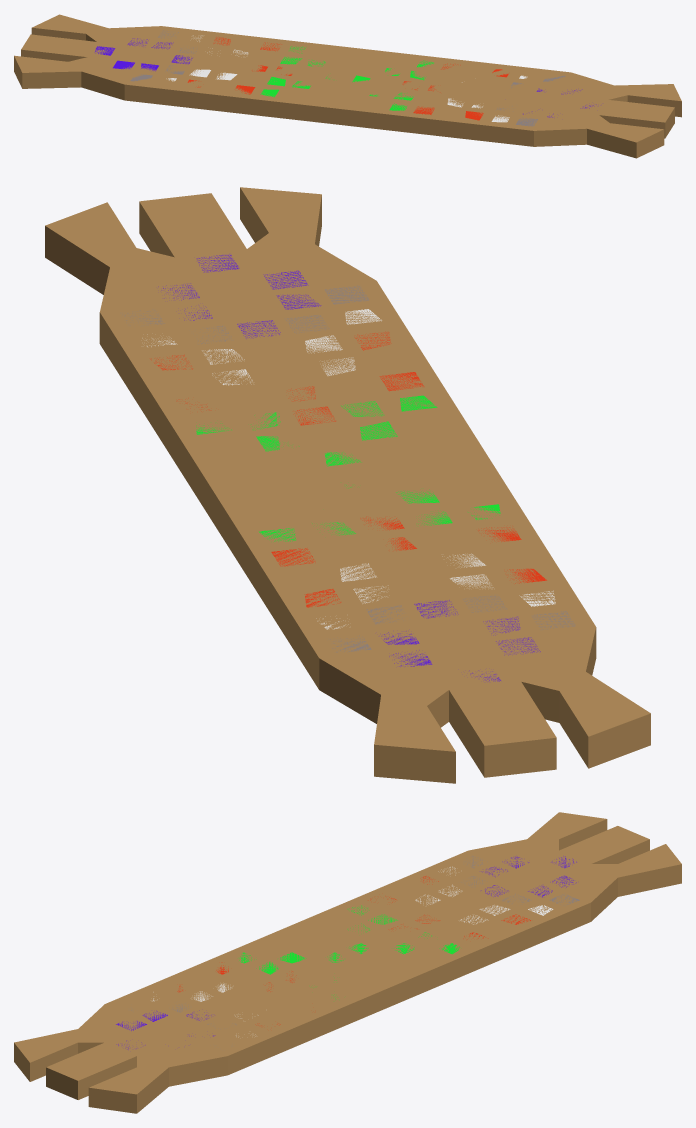
The model's file is inv_wampum_belt.obj.
The picture shows the model from 3 angles, top to bottom: view 1: azimuth 30°, elevation 25°; view 2: azimuth 150°, elevation 25°; view 3: azimuth 270°, elevation 25°; orthographic projection. The views are drawn at different scales.
Size of the model in its own units: 0.9766 by 0.0312 by 0.9766.
